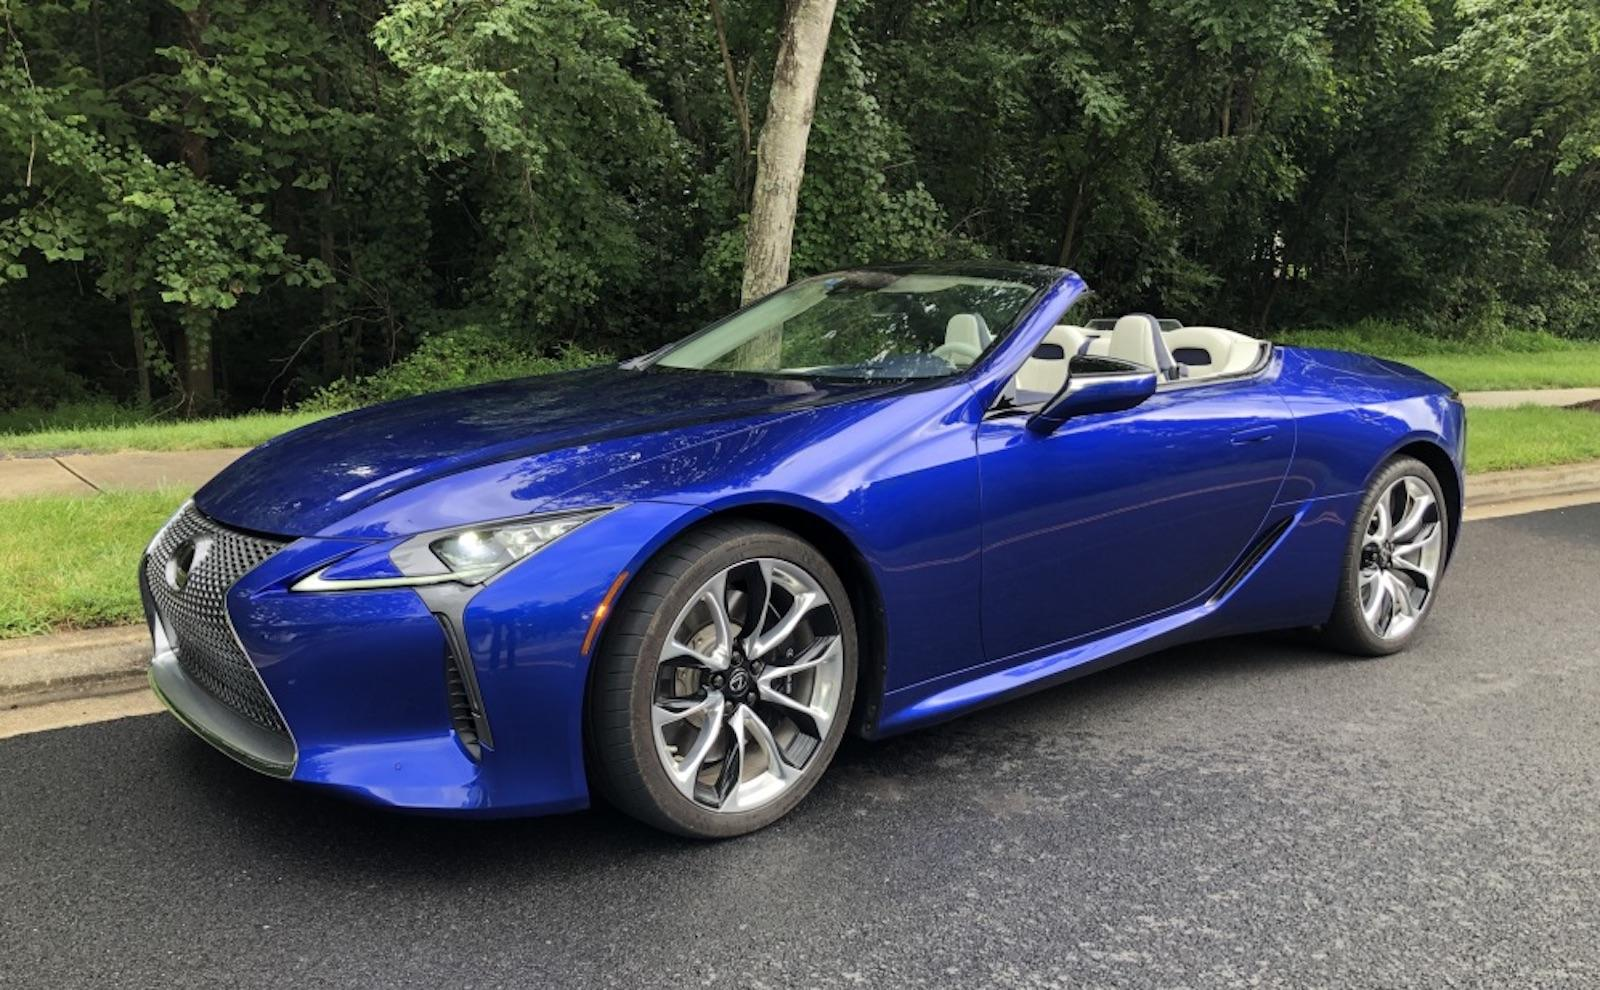car: (152, 247, 1480, 848)
